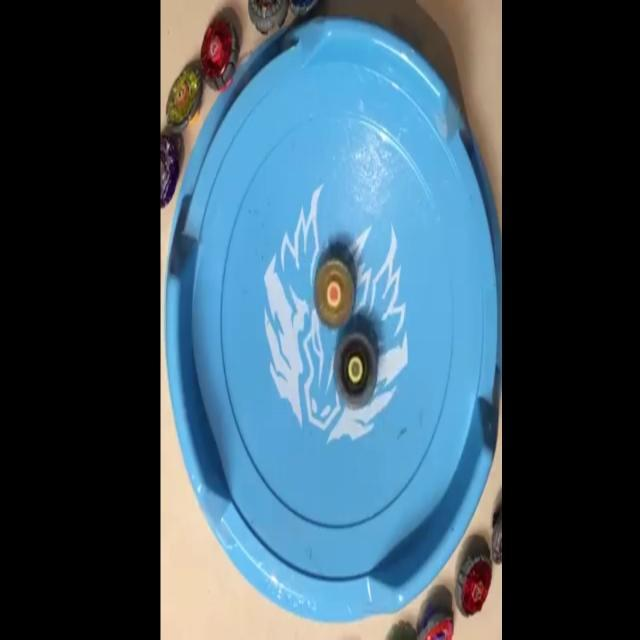Beyblade: (334, 334, 378, 407), (201, 15, 239, 94), (315, 260, 355, 330), (166, 66, 204, 132), (456, 552, 492, 618)
